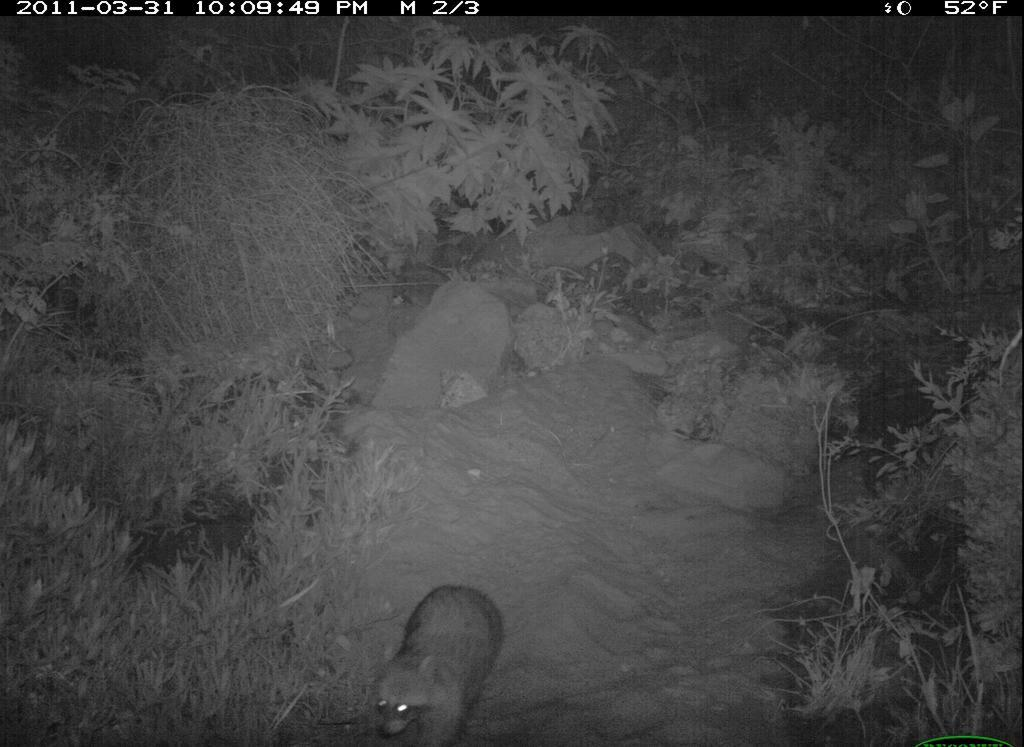raccoon: (367, 579, 521, 747)
